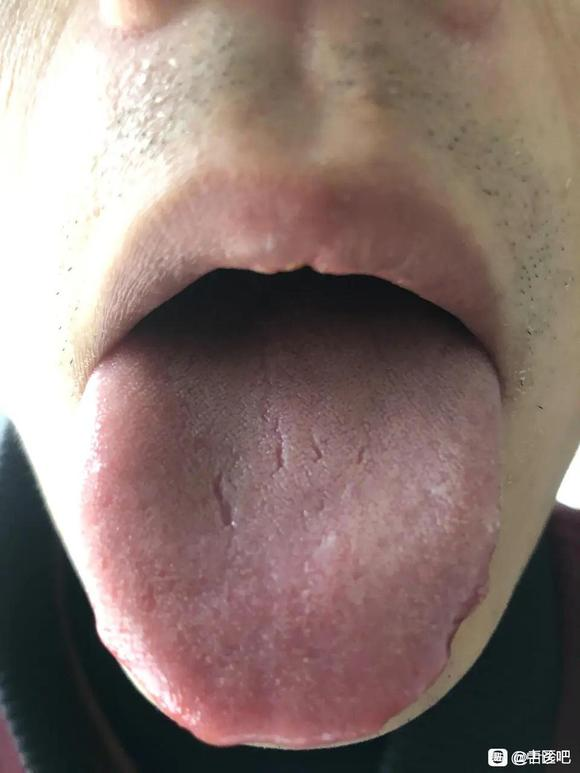baitaishe: (75, 293, 501, 750)
chihenshe: (381, 505, 501, 725)
liewenshe: (210, 422, 320, 530)
